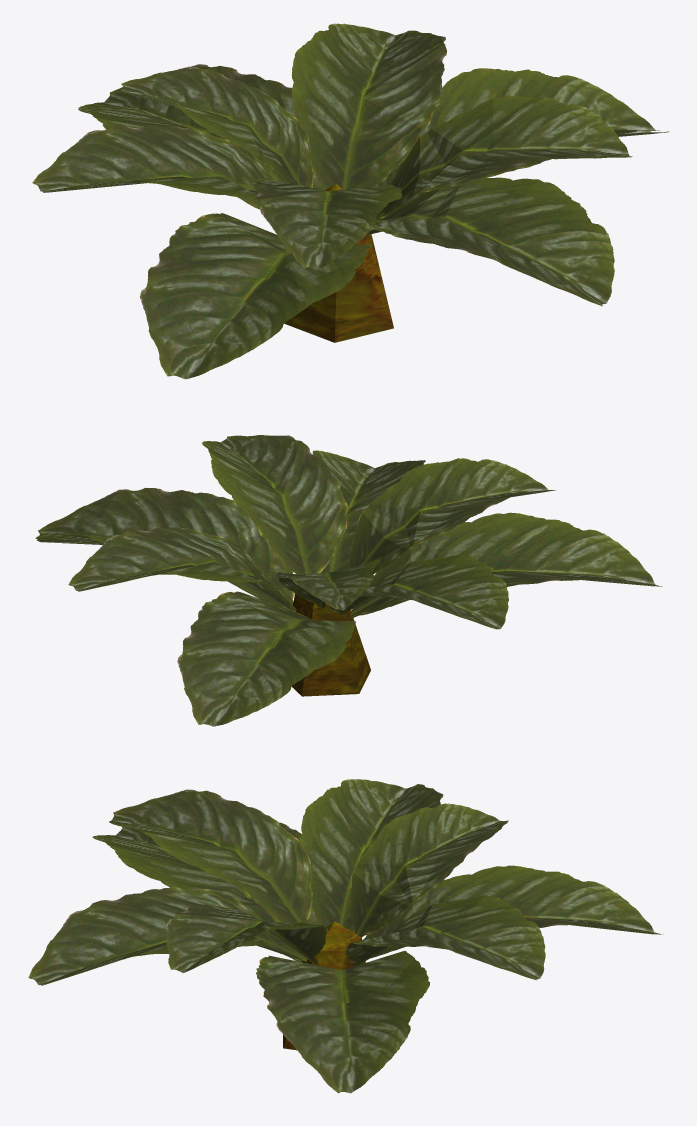
Rendered from bigleafplant_01_small_low.obj.
3 renders of one model, top to bottom at view 1: azimuth 30°, elevation 25°; view 2: azimuth 150°, elevation 25°; view 3: azimuth 270°, elevation 25°, orthographic. The views are drawn at different scales.
Parts seen in each view (by area): view 1: bigleafsb224, bigleafsb64; view 2: bigleafsb224, bigleafsb64; view 3: bigleafsb224, bigleafsb64.
Boxes of the visible parts, <box> form: bigleafsb224: <box>32,25,669,379</box>; bigleafsb64: <box>34,23,668,379</box>; bigleafsb224: <box>35,435,662,725</box>; bigleafsb64: <box>37,435,658,726</box>; bigleafsb224: <box>28,780,663,1092</box>; bigleafsb64: <box>30,779,660,1093</box>.
Size of what is drawn, in the model's own units: 1.95 by 0.604 by 1.95.
Materials: 1 (1 with a texture image).
